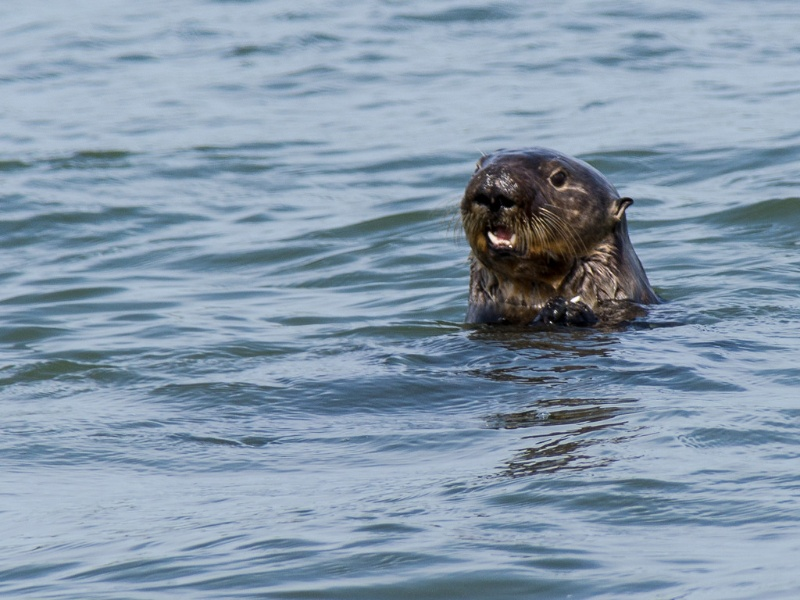minkish: (444, 133, 699, 355)
